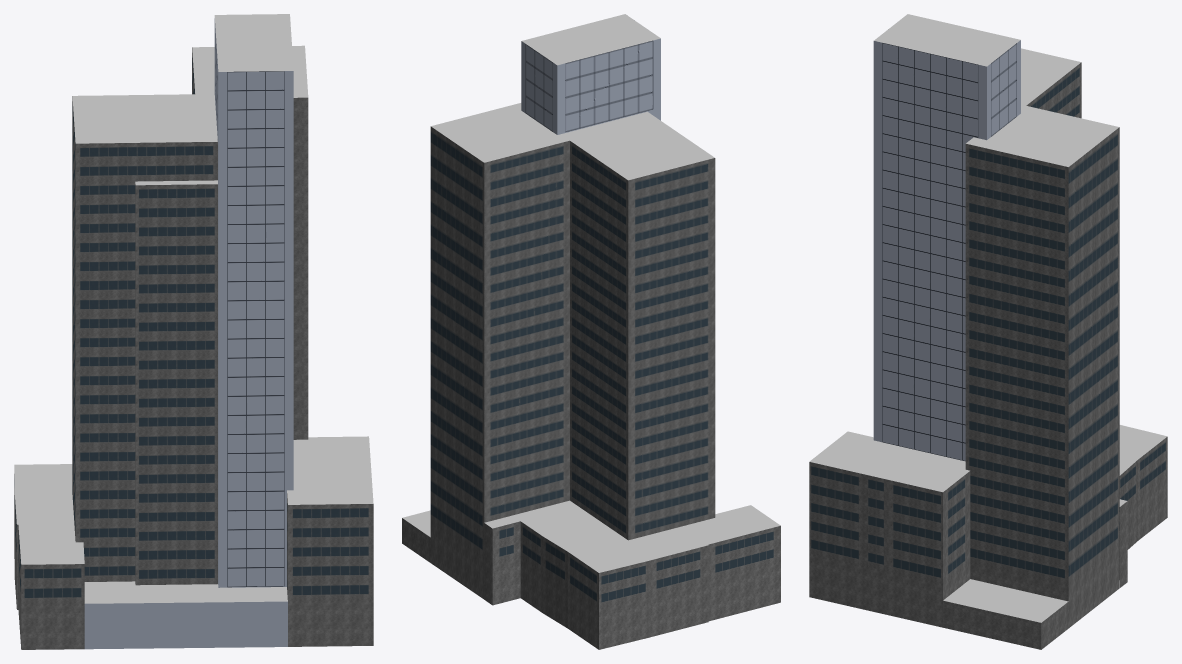
File: building-1-0-483.dae
The picture shows the model from 3 angles, left to right: view 1: azimuth 30°, elevation 25°; view 2: azimuth 150°, elevation 25°; view 3: azimuth 270°, elevation 25°; orthographic projection. The views are drawn at different scales.
Visible parts, largest first — view 1: geopipeinodee2_oU_P2 (×5); view 2: geopipeinodee2_oU_P2 (×5); view 3: geopipeinodee2_oU_P2 (×5).
Part boxes in pixels (bbox=[...]): geopipeinodee2_oU_P2 (×5): bbox=[14, 14, 373, 649]; geopipeinodee2_oU_P2 (×5): bbox=[402, 14, 780, 649]; geopipeinodee2_oU_P2 (×5): bbox=[809, 14, 1167, 649].
Size of the model in its own units: 70.37 by 60.01 by 98.8.
